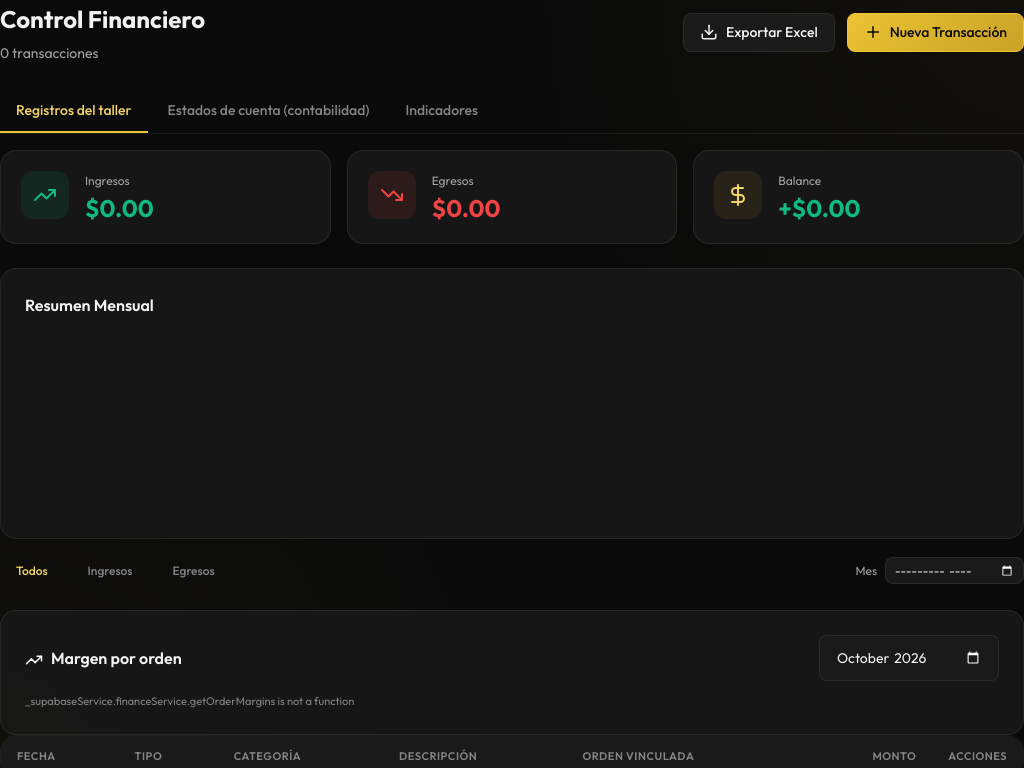
Test: Finance — Importar Estado de Cuenta › responds on the first click while the importer is still downloading
Note: Desde el 05/10/2026 la importación vive en su propia vista (contabilidad aparte).
Click the tab "Estados de cuenta (contabilidad)": (268, 111) [152,89,386,133]
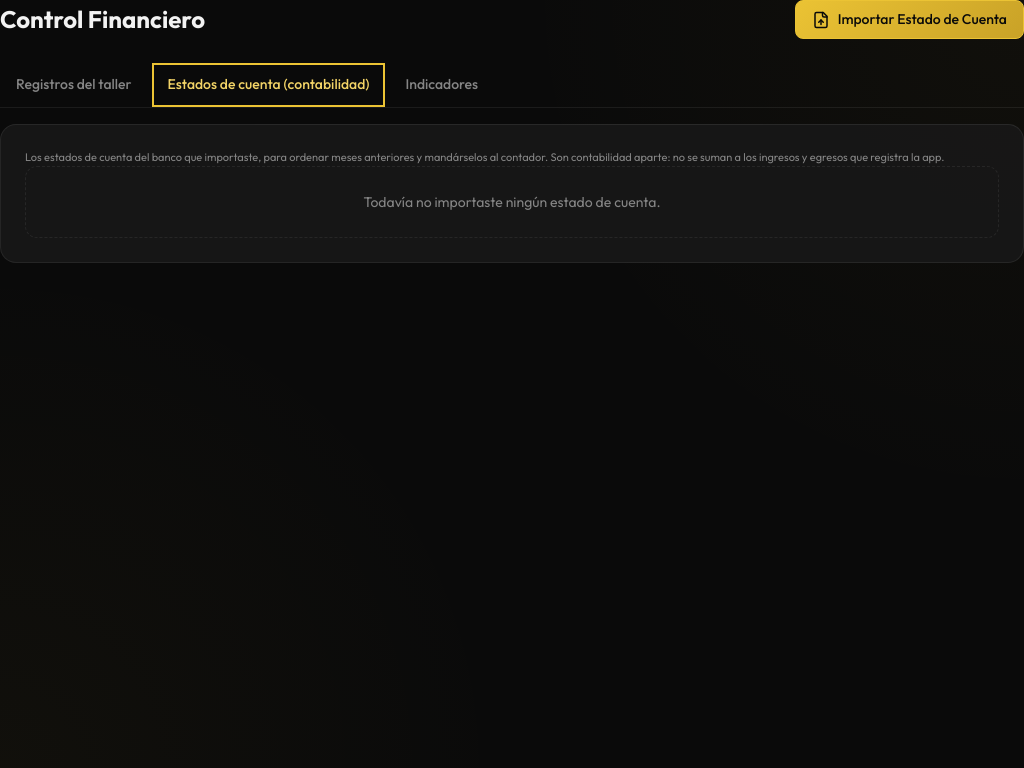
Click the button "Importar Estado de Cuenta": (909, 20) [795,0,1023,39]
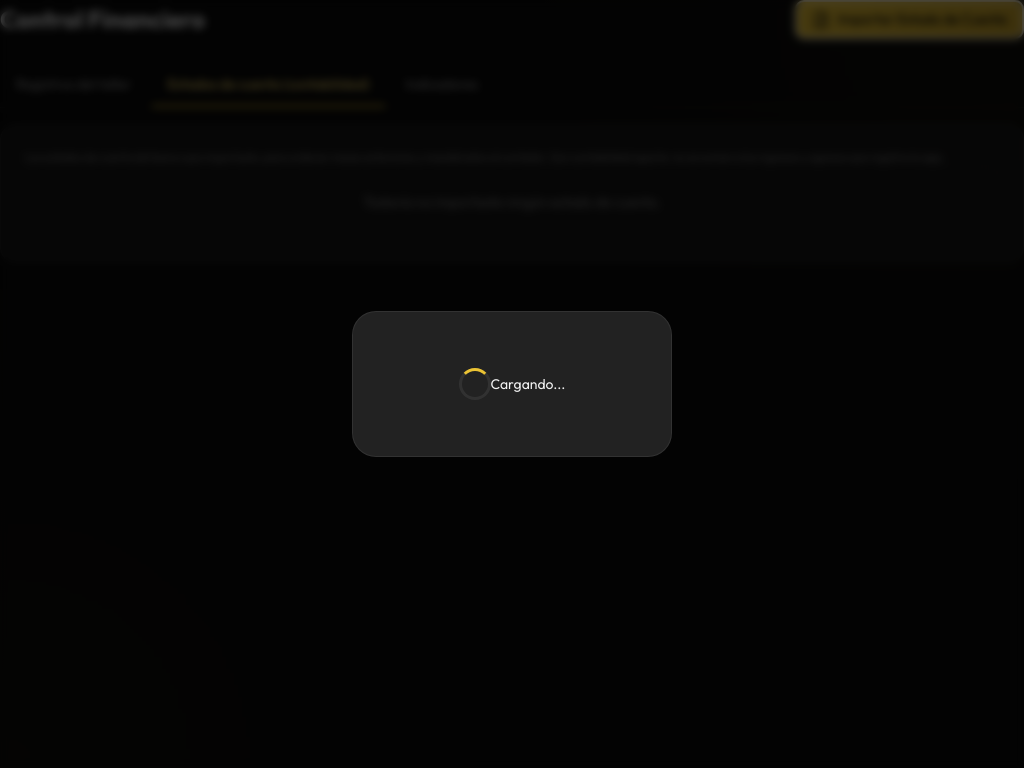
Now the message "Cargando..." is shown, box [459,368,566,400]
